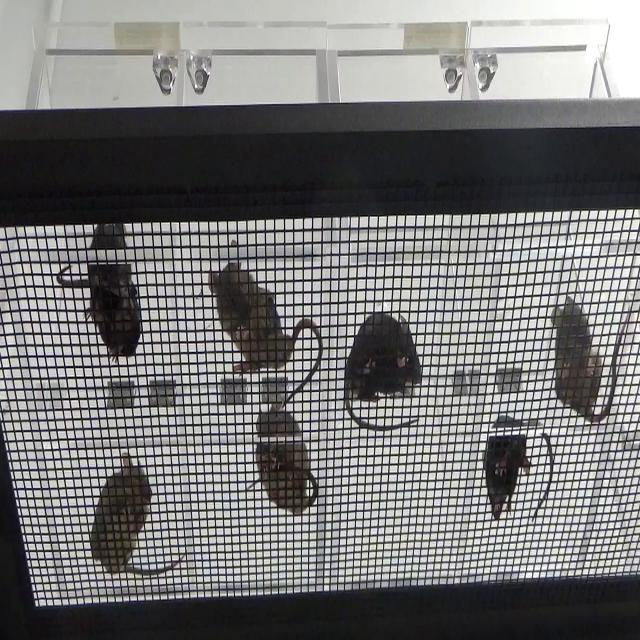lick tail: (54, 222, 153, 363)
scratch: (542, 295, 636, 430)
